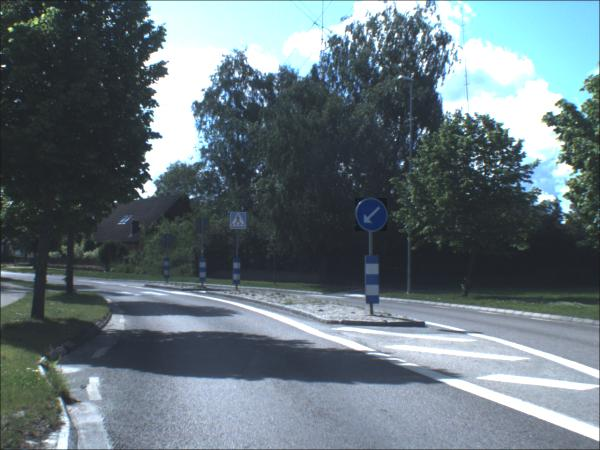PASS_RIGHT_SIDE: (355, 200, 388, 234)
PEDESTRIAN_CROSSING: (230, 213, 247, 231)
